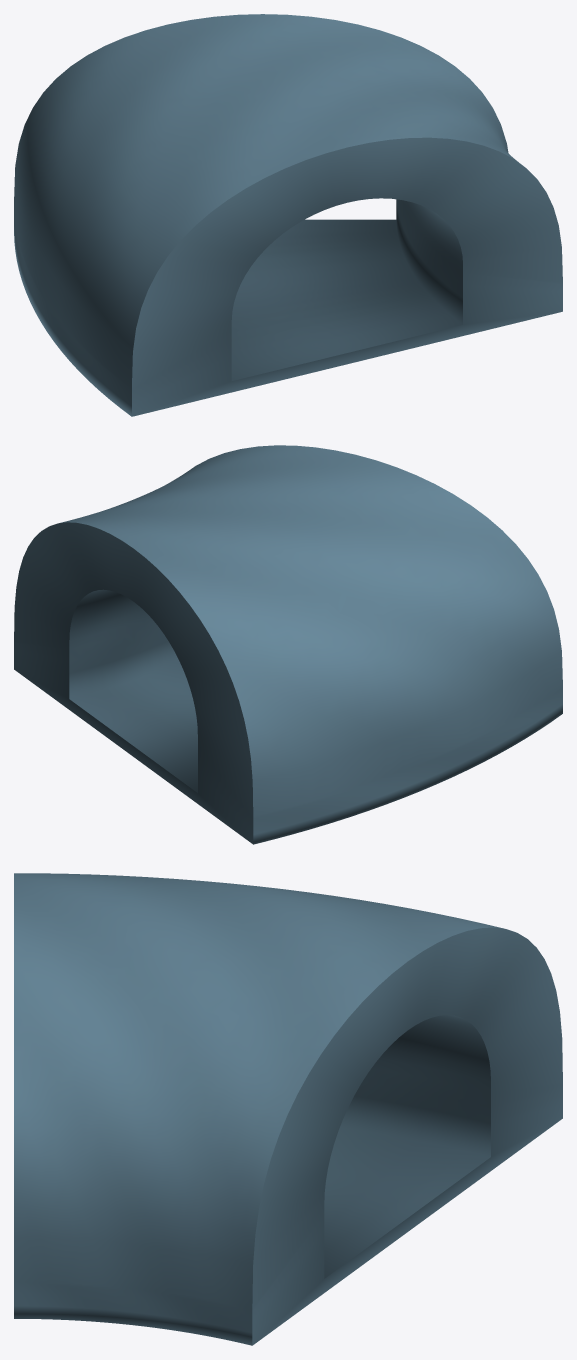
The model's file is curve_right_30_terrain.glb.
3 renders of one model, top to bottom at view 1: azimuth 30°, elevation 25°; view 2: azimuth 150°, elevation 25°; view 3: azimuth 270°, elevation 25°, orthographic. The views are drawn at different scales.
Visible parts, largest first — view 1: TerrainRoof.008; view 2: TerrainRoof.008; view 3: TerrainRoof.008.
Part boxes in pixels (left/top/right/bottom): TerrainRoof.008: left=14, top=14, right=562, bottom=416; TerrainRoof.008: left=14, top=445, right=562, bottom=844; TerrainRoof.008: left=14, top=873, right=562, bottom=1345.
Bounding box in the file's own units: 31.32 × 13.65 × 25.1.
